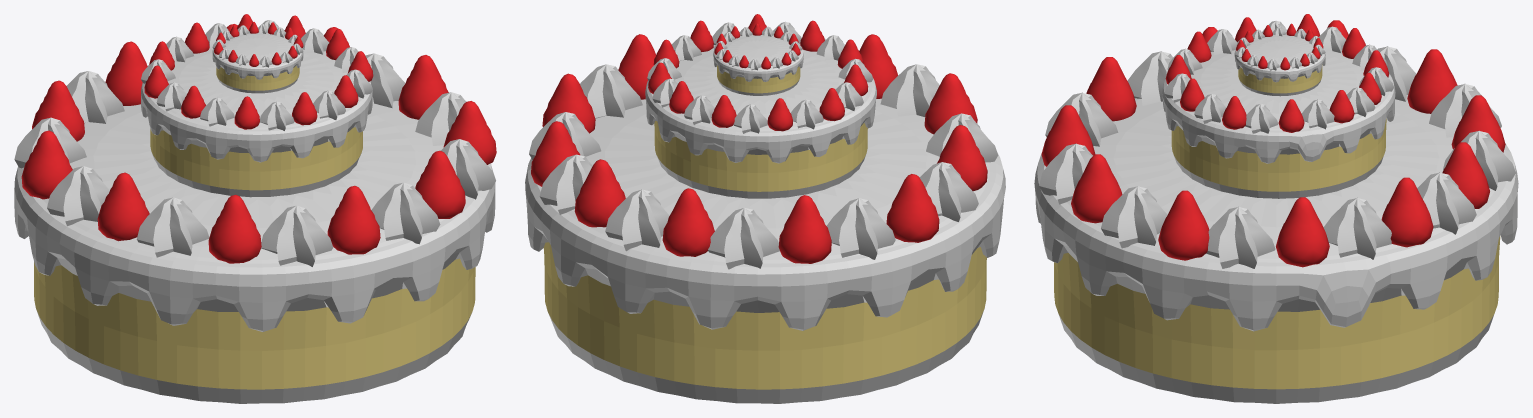
Rendered from Cake Stage.fbx.
3 renders of one model, left to right at view 1: azimuth 30°, elevation 25°; view 2: azimuth 150°, elevation 25°; view 3: azimuth 270°, elevation 25°, orthographic.
Visible parts, largest first — view 1: 円柱.002, 円柱.001, 円柱, cream_solo.025, cream_solo.026, cream_solo.029, 立方体.024, 立方体.025, cream_solo.030, 立方体.023, 立方体.026, 立方体.027 (+23 smaller); view 2: 円柱.002, 円柱.001, 円柱, cream_solo.032, cream_solo.028, cream_solo.024, 立方体.029, 立方体.026, 立方体.032, 立方体.033, cream_solo.031, cream_solo.030 (+24 smaller); view 3: 円柱.002, 円柱.001, 円柱, cream_solo.031, cream_solo.023, cream_solo.027, 立方体.030, 立方体.028, 立方体.031, 立方体.027, cream_solo.033, 立方体.024 (+23 smaller).
Part boxes in pixels (box(x1,y1,x2,y2)): 円柱.002: box(14, 101, 495, 403); 円柱.001: box(141, 45, 372, 197); 円柱: box(212, 32, 303, 93); cream_solo.025: box(261, 205, 333, 266); cream_solo.026: box(136, 197, 209, 257); cream_solo.029: box(371, 182, 440, 244); 立方体.024: box(208, 194, 261, 263); 立方体.025: box(327, 185, 380, 254); cream_solo.030: box(47, 166, 109, 226); 立方体.023: box(97, 172, 149, 241); 立方体.026: box(21, 130, 72, 199); 立方体.027: box(415, 150, 465, 218); 円柱.002: box(525, 98, 1005, 403); 円柱.001: box(645, 44, 876, 198); 円柱: box(713, 35, 803, 95); cream_solo.032: box(708, 208, 779, 269); cream_solo.028: box(826, 198, 895, 259); cream_solo.024: box(605, 189, 669, 251); 立方体.029: box(778, 195, 831, 263); 立方体.026: box(886, 174, 939, 242); 立方体.032: box(662, 188, 714, 256); 立方体.033: box(574, 159, 625, 227); cream_solo.031: box(580, 64, 642, 118); cream_solo.030: box(919, 162, 978, 221); 円柱.002: box(1034, 95, 1518, 403); 円柱.001: box(1162, 50, 1395, 198); 円柱: box(1234, 33, 1325, 96); cream_solo.031: box(1206, 206, 1275, 268); cream_solo.023: box(1323, 197, 1391, 259); cream_solo.027: box(1101, 186, 1167, 248); 立方体.030: box(1276, 197, 1329, 267); 立方体.028: box(1158, 190, 1209, 260); 立方体.031: box(1381, 177, 1433, 247); 立方体.027: box(1071, 154, 1122, 223); cream_solo.033: box(1417, 172, 1476, 234); 立方体.024: box(1086, 57, 1136, 121).
Size of the model in its own units: 3775 by 2385 by 3775.
